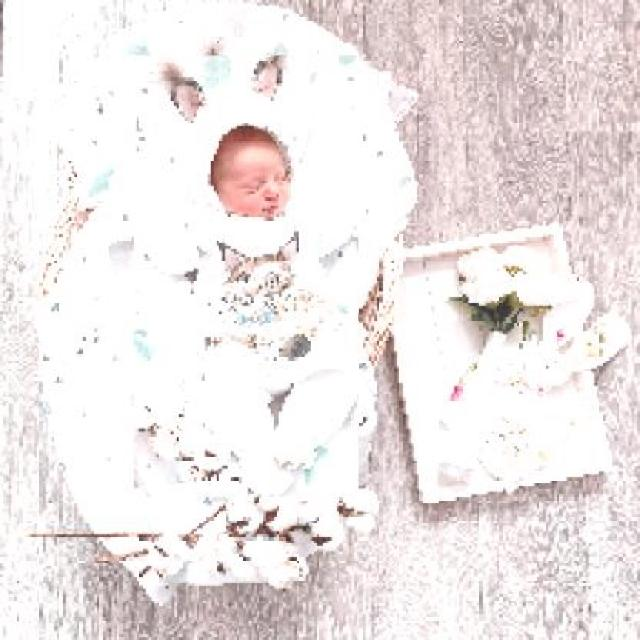child: (132, 56, 358, 498)
